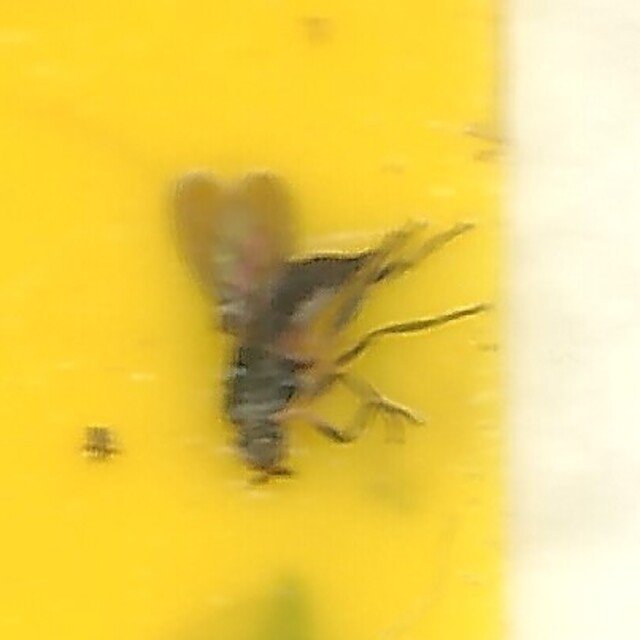Brachycera: (159, 157, 481, 483)
